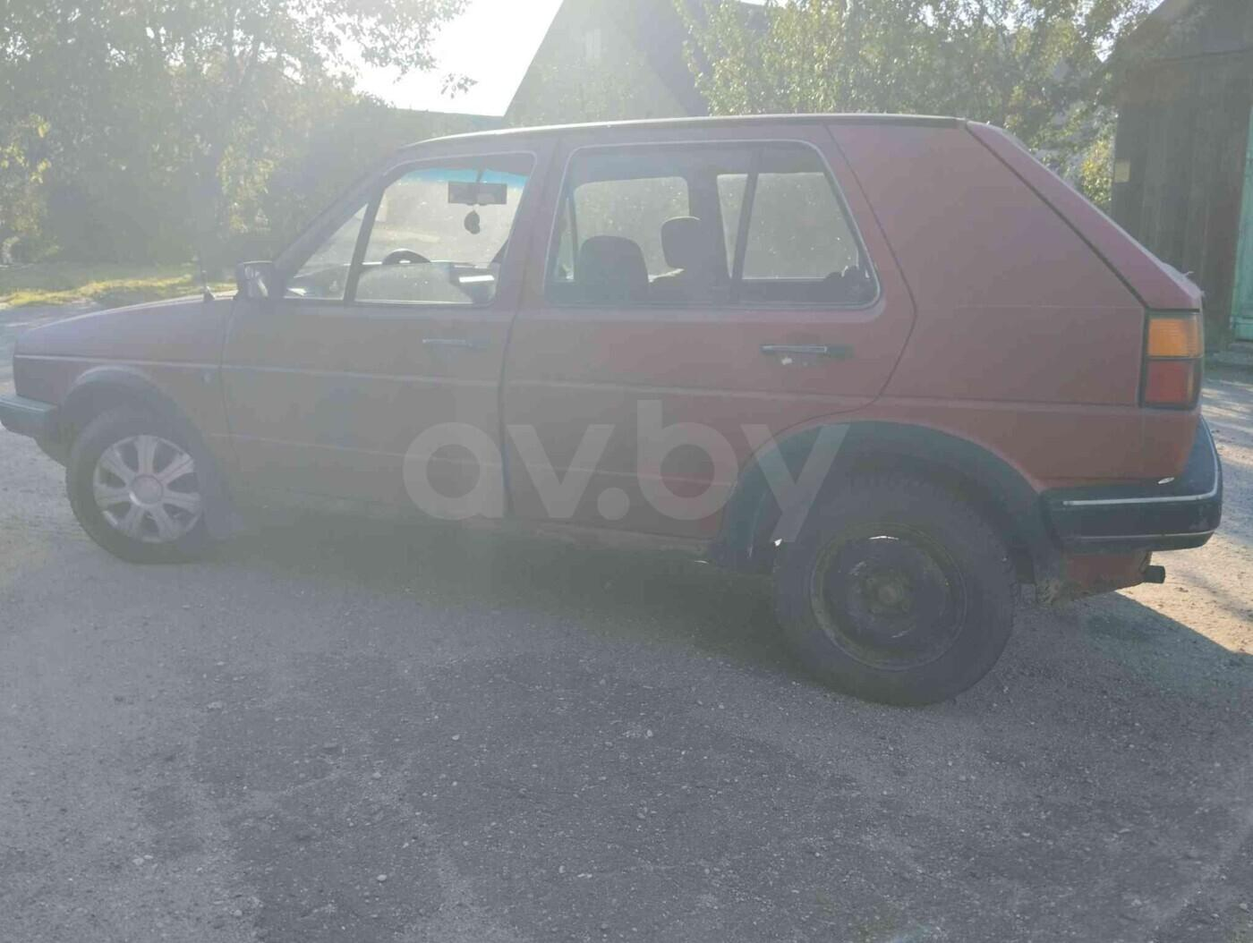Golf_1983-1992: (0, 111, 1226, 707)
